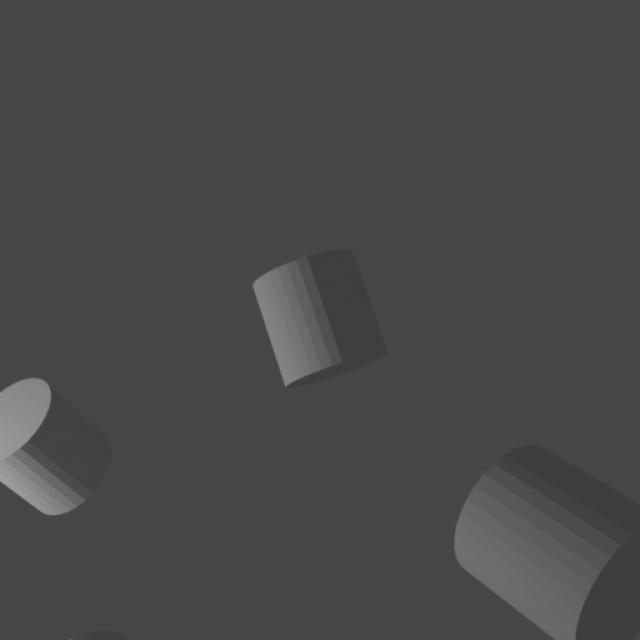Cylinder: (435, 428, 640, 640), (244, 241, 392, 397), (0, 375, 118, 535)
